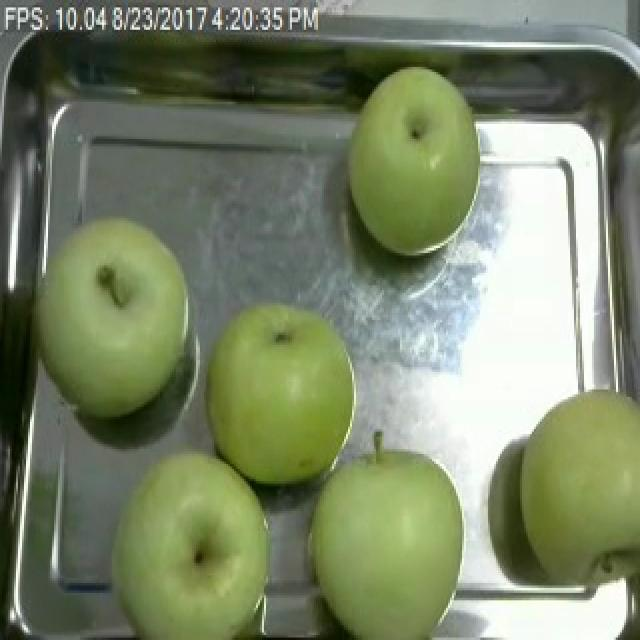50-_ripeness: (25, 194, 195, 439), (96, 429, 270, 640), (309, 433, 480, 640), (340, 64, 498, 279), (510, 372, 640, 626), (199, 310, 361, 481)
